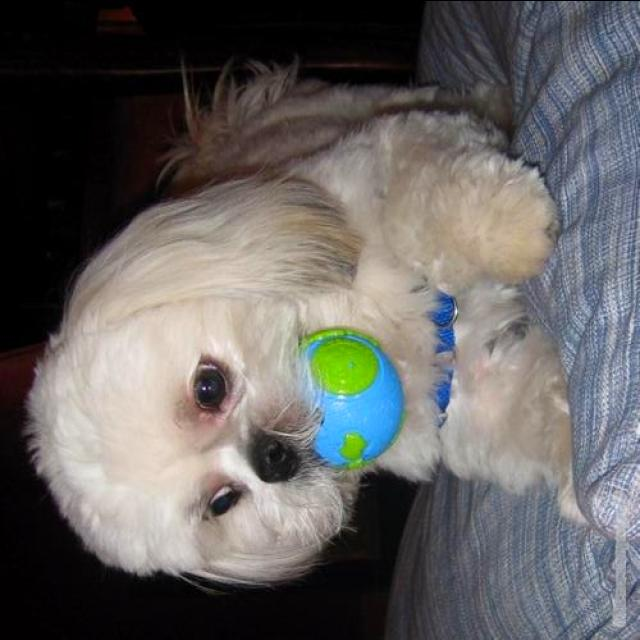shih_tzu: (25, 64, 571, 585)
